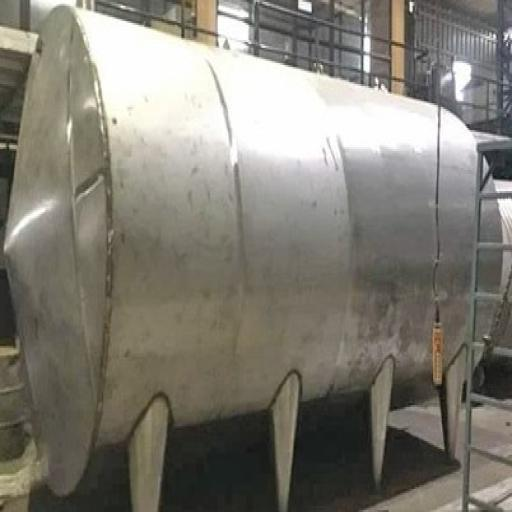silo: (1, 6, 502, 510)
